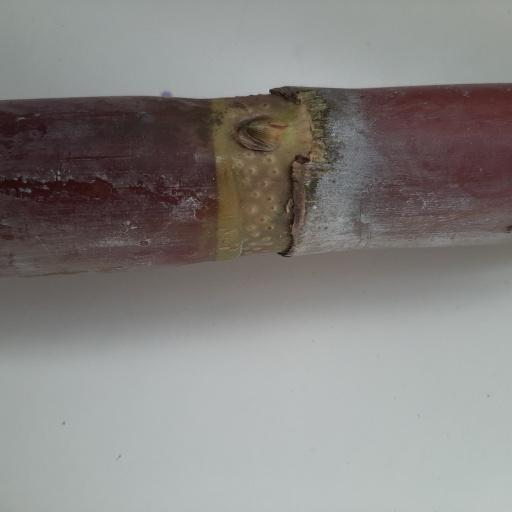Bud: (233, 113, 288, 152)
